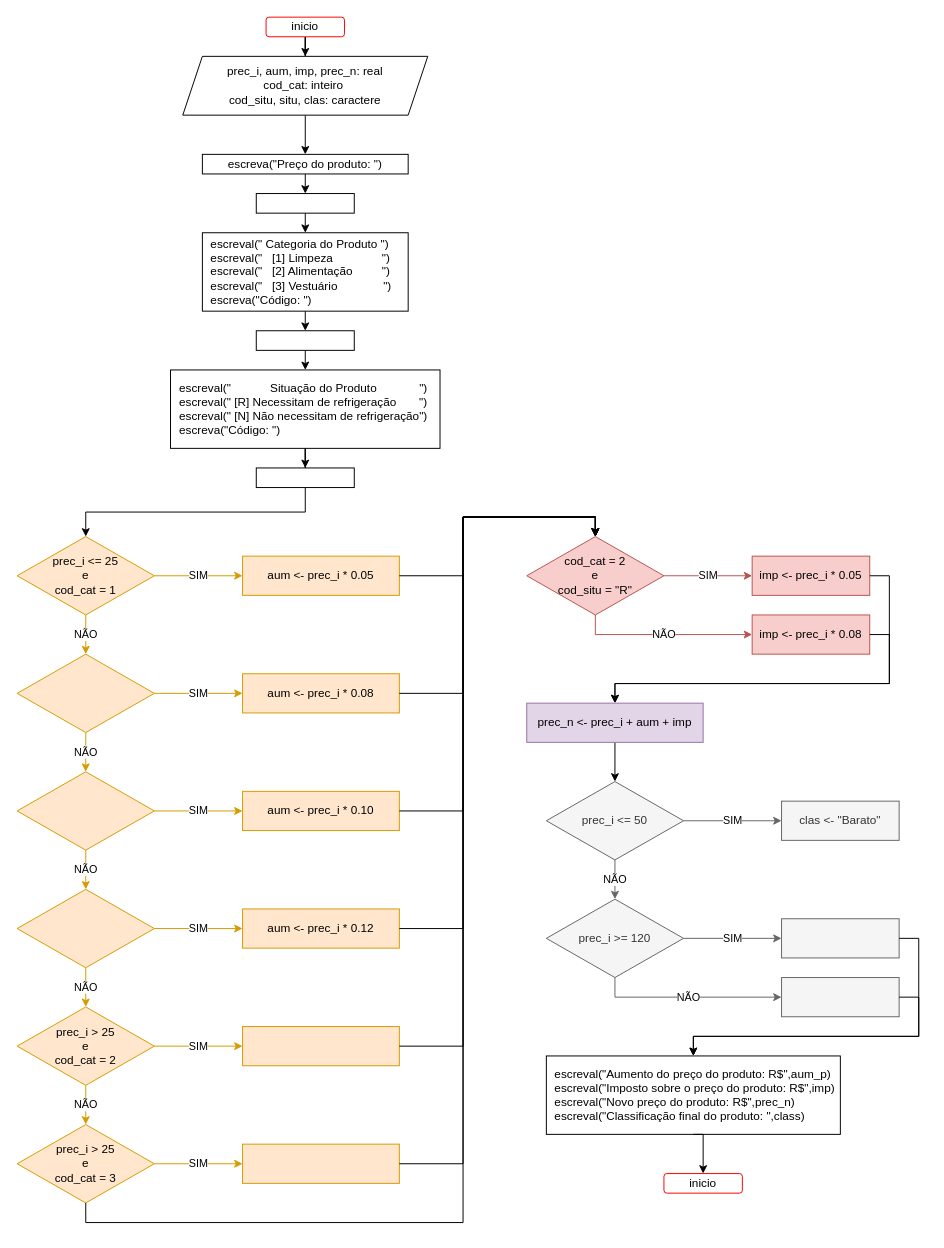
This 944x1248 diagram has some shape labels left out. Each missing label, with the centre of its shape:
aum <- prec_i * 0.15: (x=320, y=1046)
aum <- prec_i * 0.18: (x=320, y=1163)
clas <- "Caro": (x=840, y=938)
clas <- "Normal": (x=840, y=997)
leia(cod_cat): (x=304, y=340)
leia(cod_situ): (x=304, y=477)
leia(prec_i): (x=304, y=203)
prec_i <= 25 e cod_cat = 2: (x=85, y=693)
prec_i <= 25 e cod_cat = 3: (x=85, y=810)
prec_i > 25 e cod_cat = 1: (x=85, y=928)
